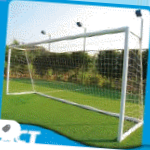goals: (5, 25, 143, 142)
